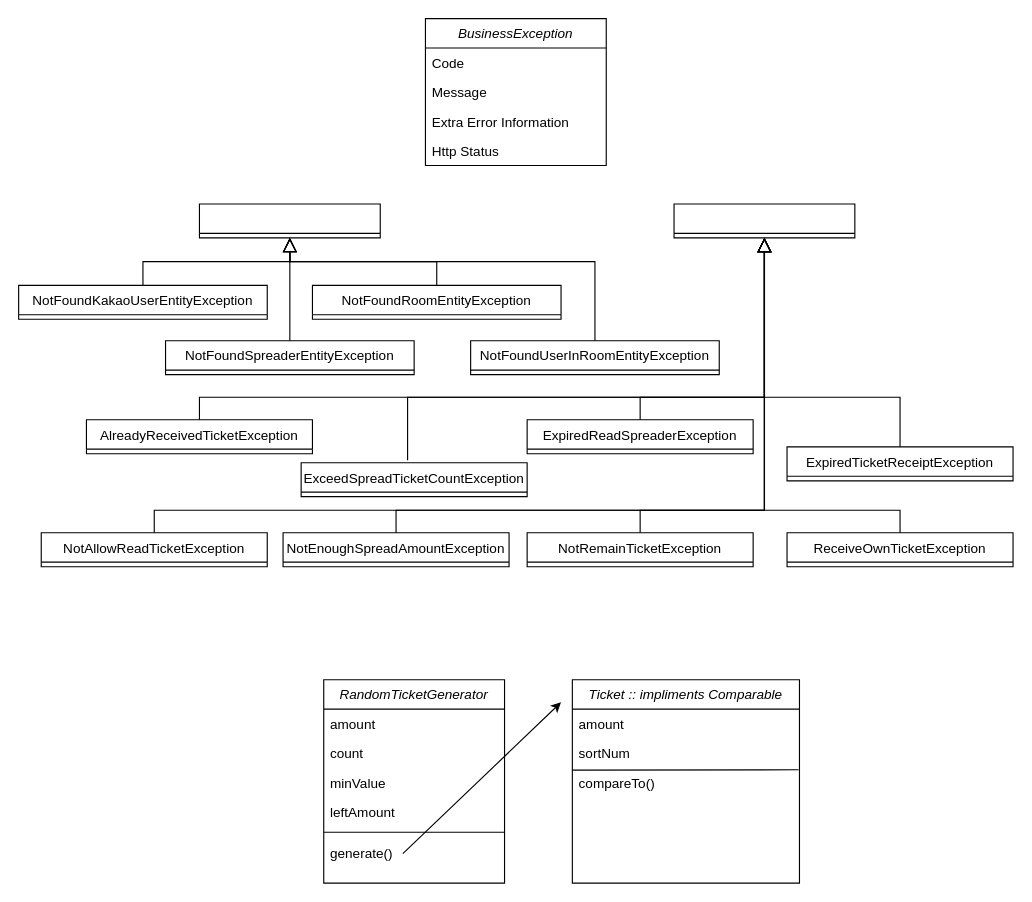
Image size: 1032x902. Some labels were removed from this diagram. Here are the shapes that lost their labels. From the top down, the centre of each, then its label:
pixel 289 220: NotFoundEntityException
pixel 764 220: InvalidException
